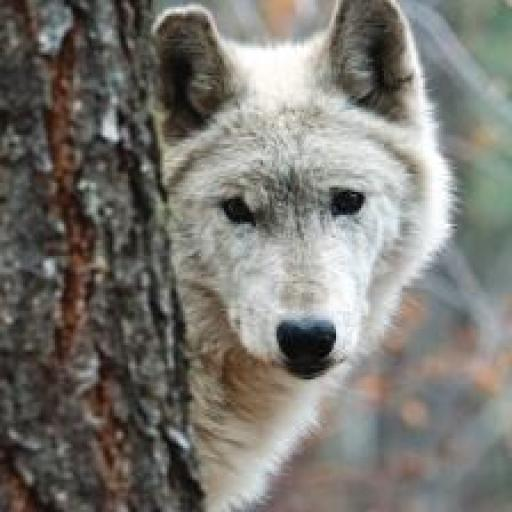wolf: (100, 0, 487, 512)
